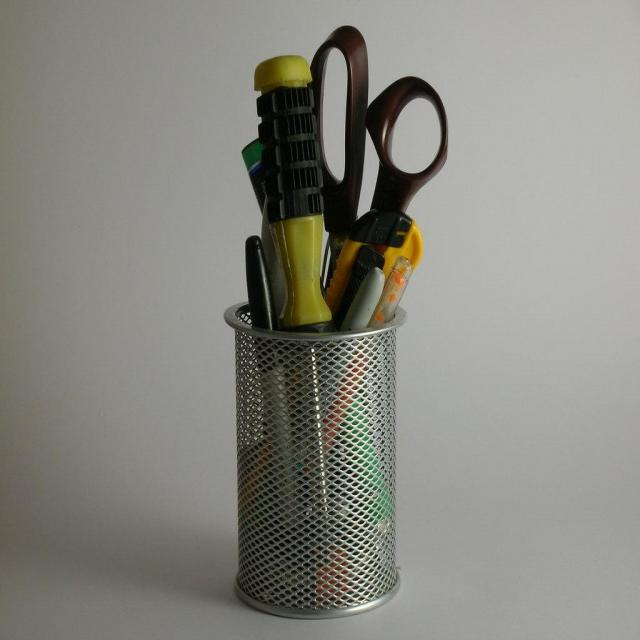scissor: (308, 23, 451, 295)
